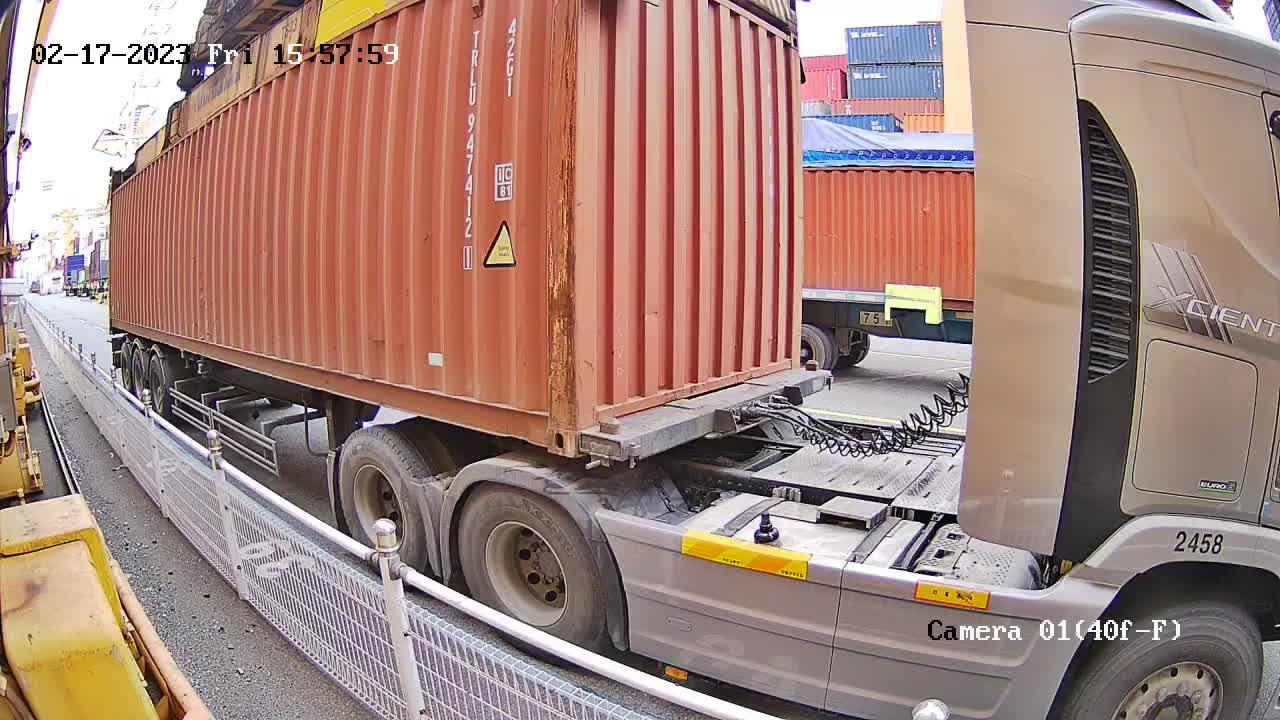Chassis: (580, 368, 829, 458)
Cone: (587, 413, 623, 472), (801, 356, 822, 374)
Hole_R: (519, 387, 575, 459)
Tire: (458, 484, 605, 660), (339, 432, 425, 578)
